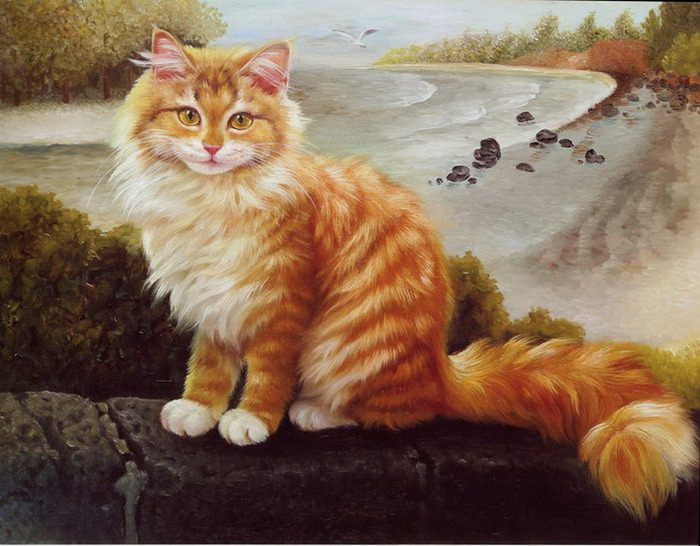cat: (136, 39, 299, 307)
